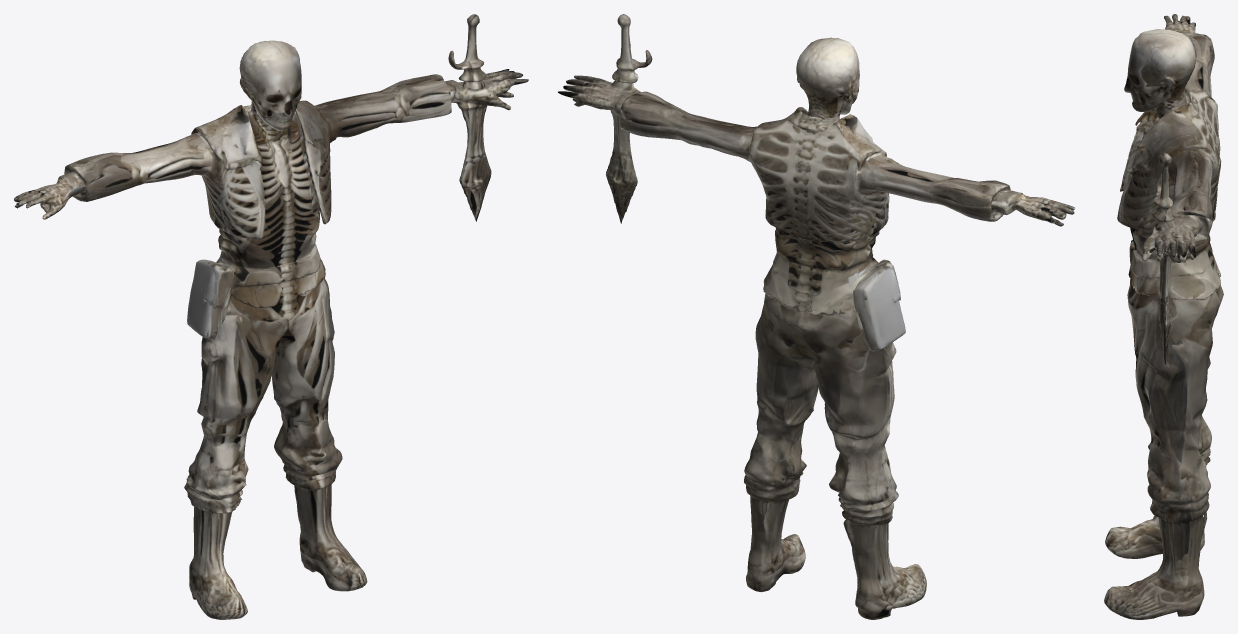
The model's file is meshy_0197273a-a2a1-7550-93b8-c07f2316a128.glb.
3 views of the same model, side by side, from view 1: azimuth 30°, elevation 25°; view 2: azimuth 150°, elevation 25°; view 3: azimuth 270°, elevation 25° (orthographic).
Size of the model in its own units: 1.93 by 1.99 by 0.3929.
Materials: 1 (1 with a texture image).
